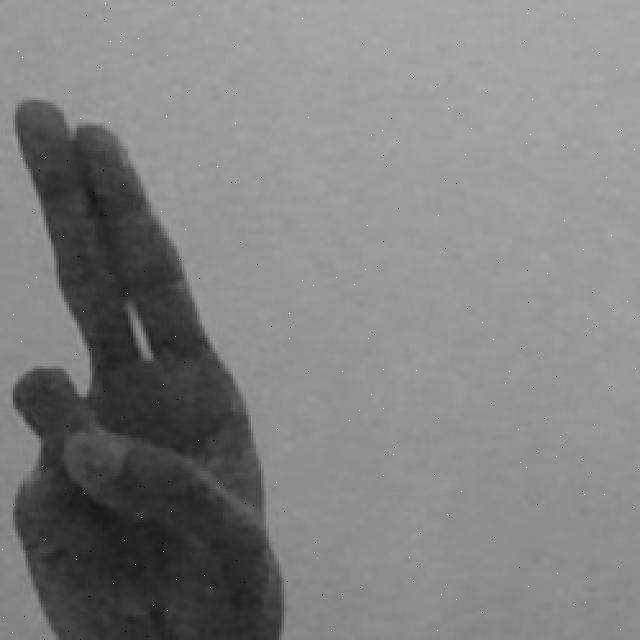U: (9, 94, 291, 640)
